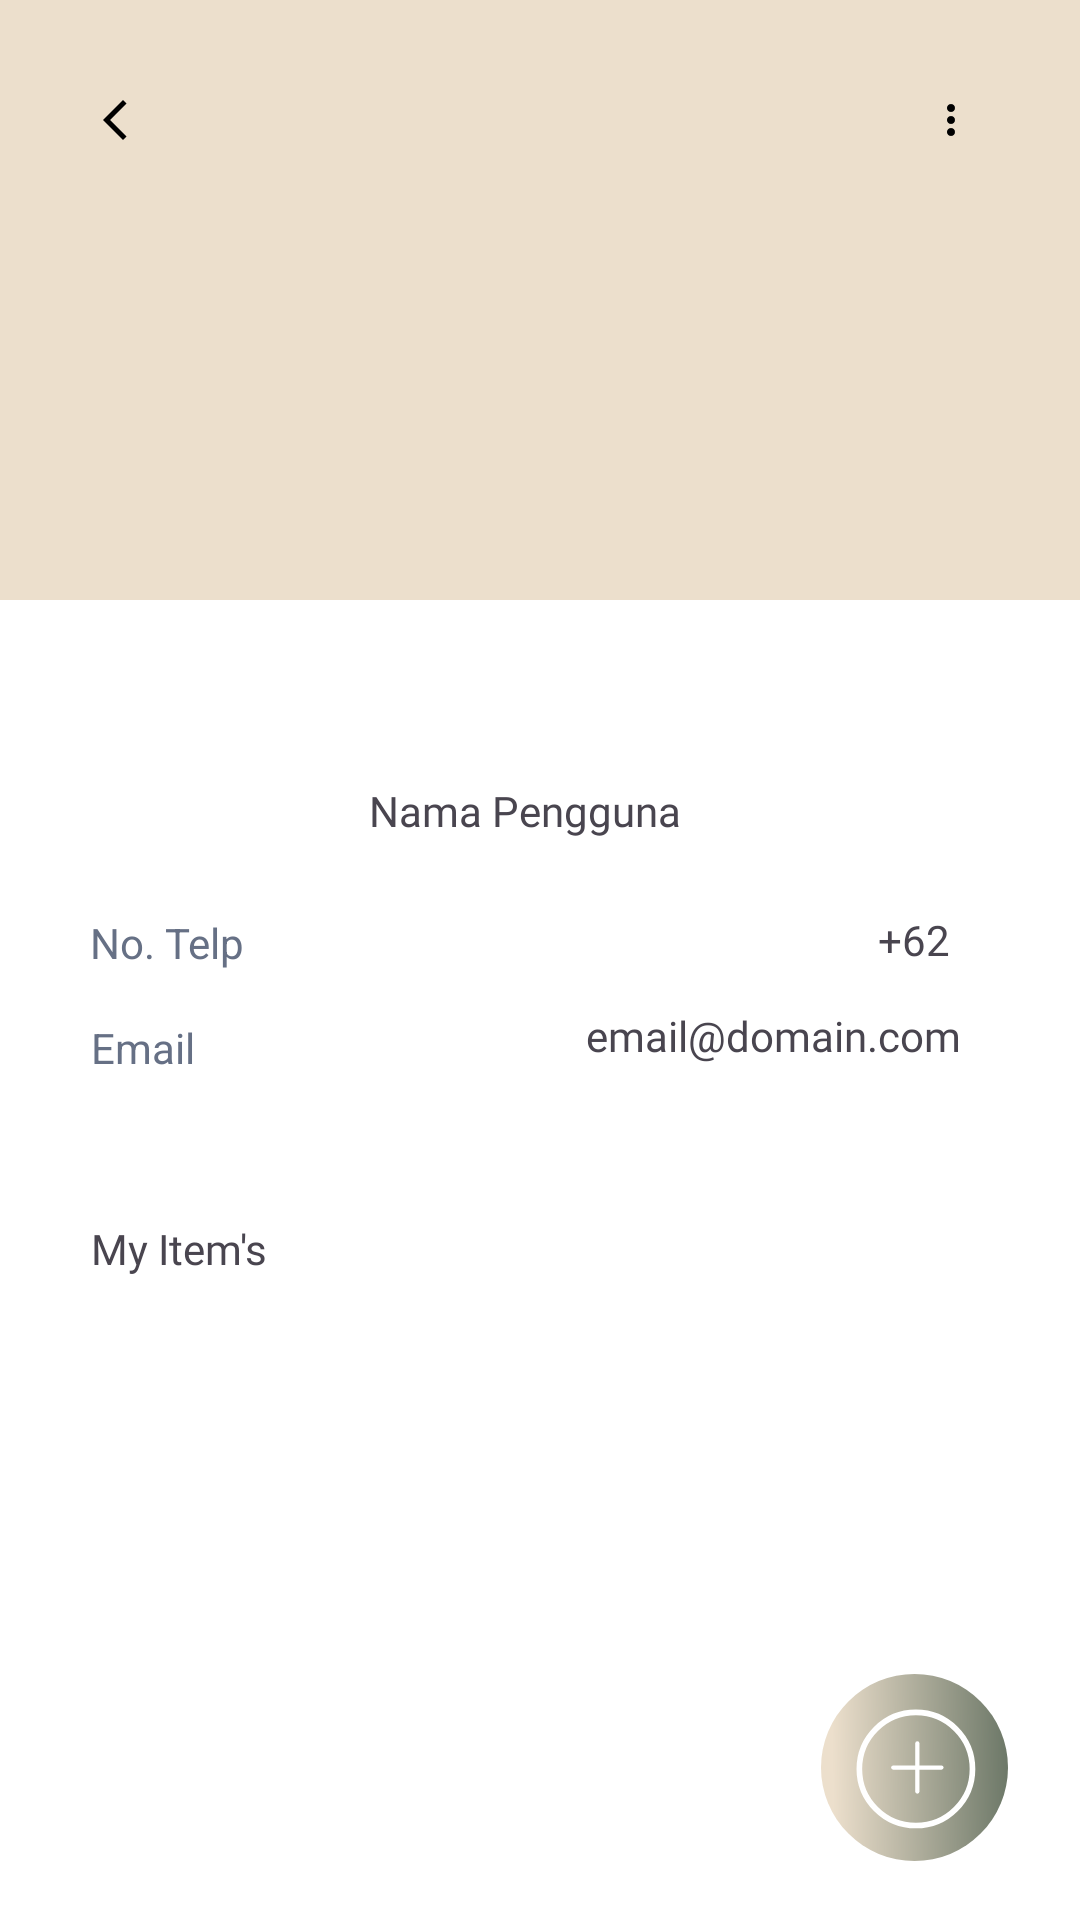

Icon bounding boxes for this 1080×1920 phone screenshot, format (x1, y1, x2, y2):
add item: (821, 1674, 1008, 1861)
back: (103, 100, 127, 140)
more: (947, 104, 955, 136)
